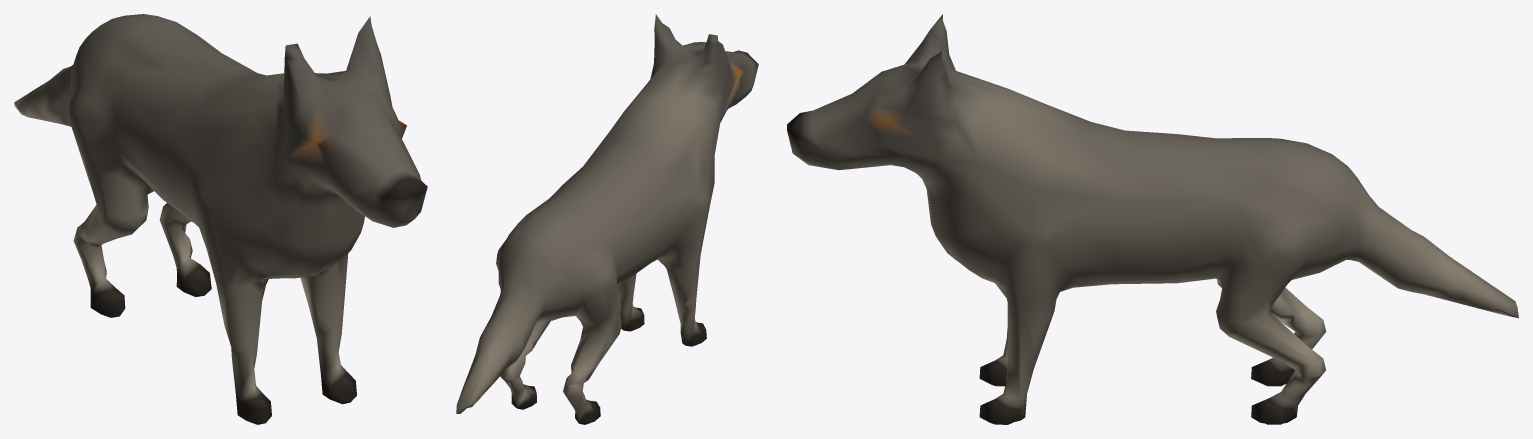
The model's file is wolf-far.glb.
3 renders of one model, left to right at view 1: azimuth 30°, elevation 25°; view 2: azimuth 150°, elevation 25°; view 3: azimuth 270°, elevation 25°, orthographic. The views are drawn at different scales.
Parts seen in each view (by area): view 1: wolf-far; view 2: wolf-far; view 3: wolf-far.
Boxes of the visible parts, x1,y1,x2,y2 form: wolf-far: (14, 14, 427, 424); wolf-far: (456, 14, 758, 424); wolf-far: (787, 14, 1518, 424).
Bounding box in the file's own units: 0.5823 × 1.45 × 2.53.
